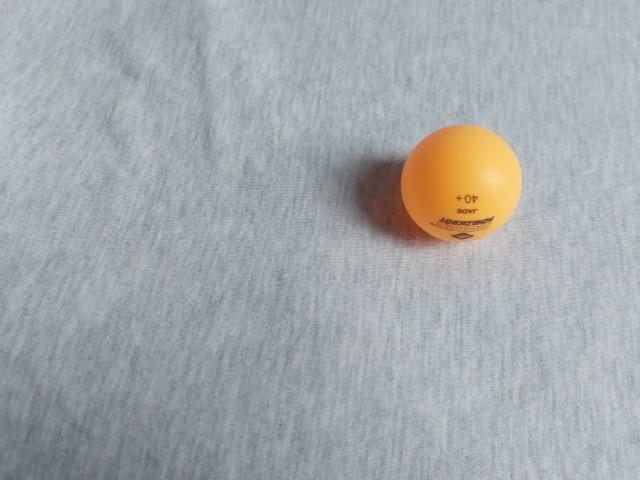oball: (391, 118, 533, 250)
